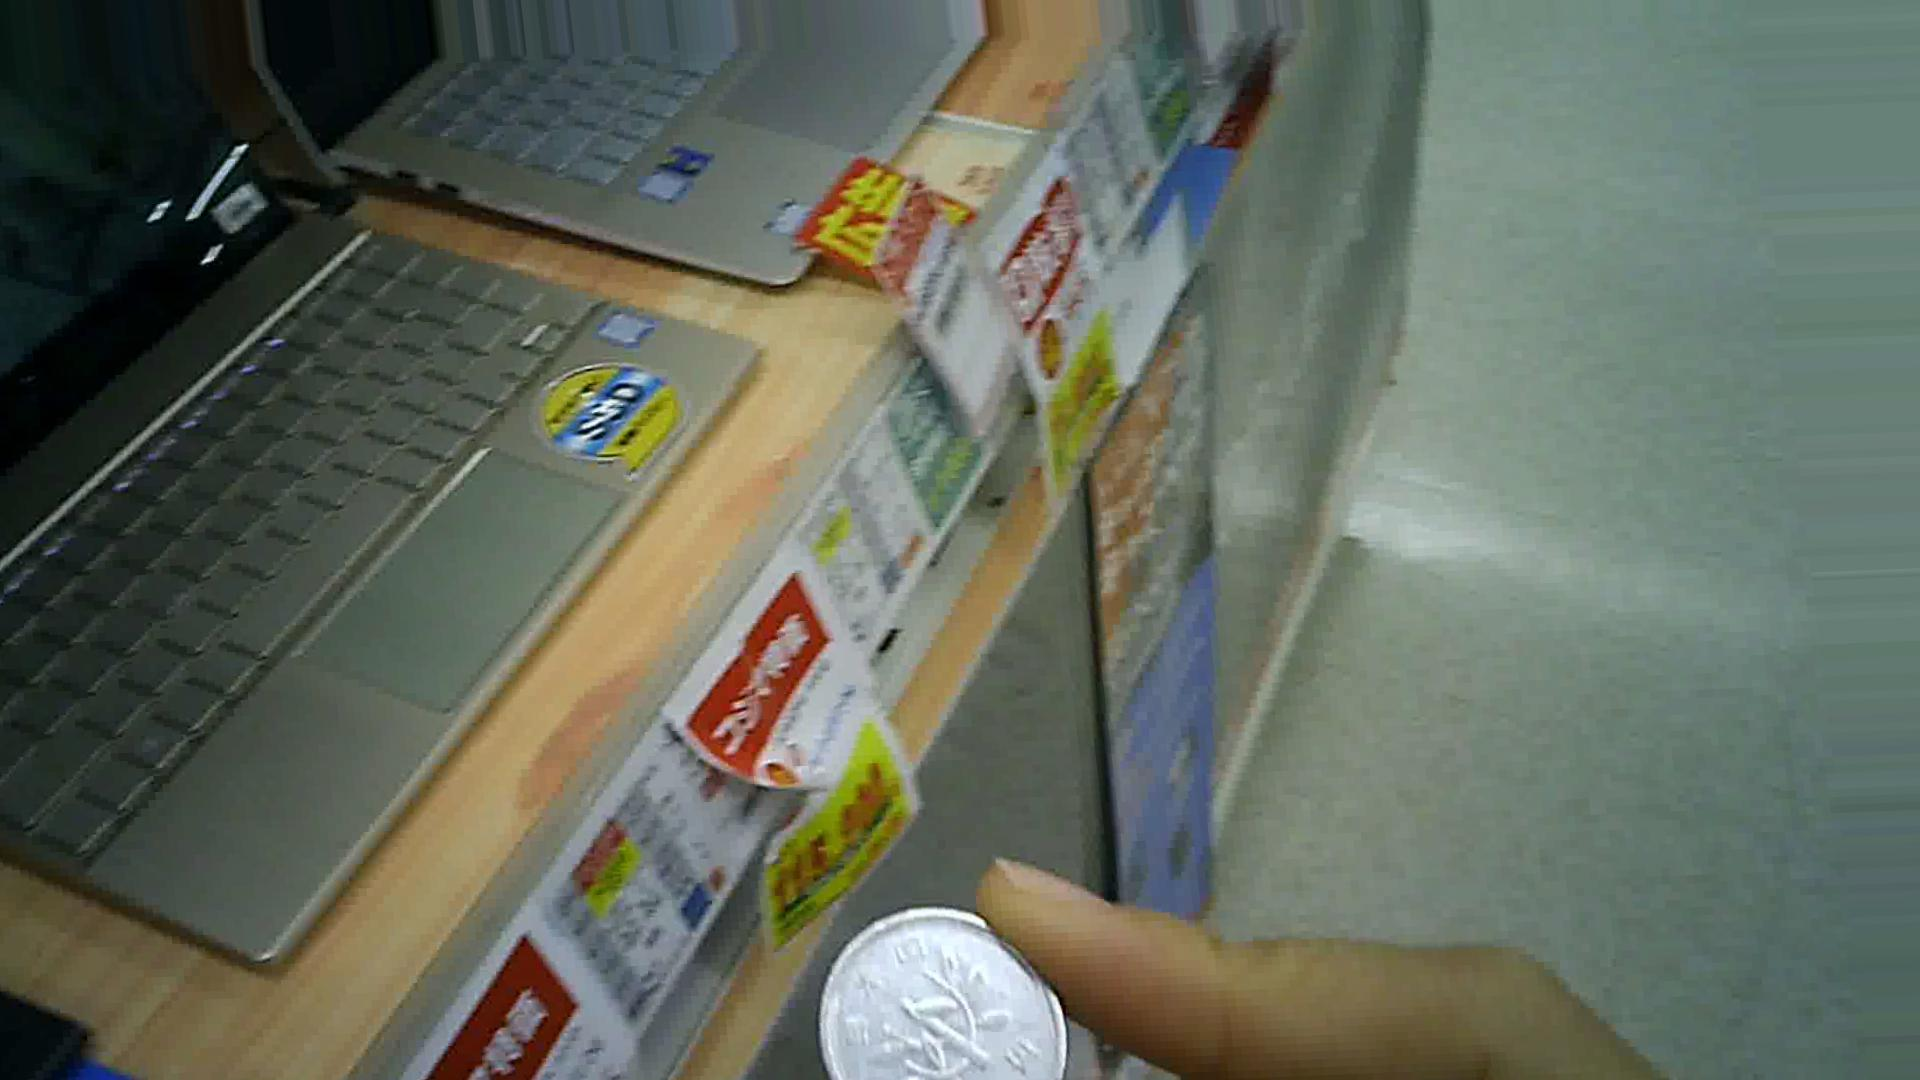1 Yen: (793, 884, 1083, 1072)
